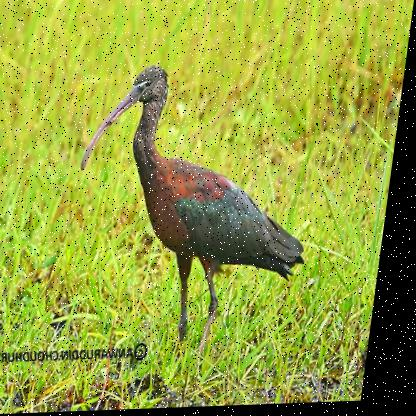Burung: (64, 60, 329, 373)
